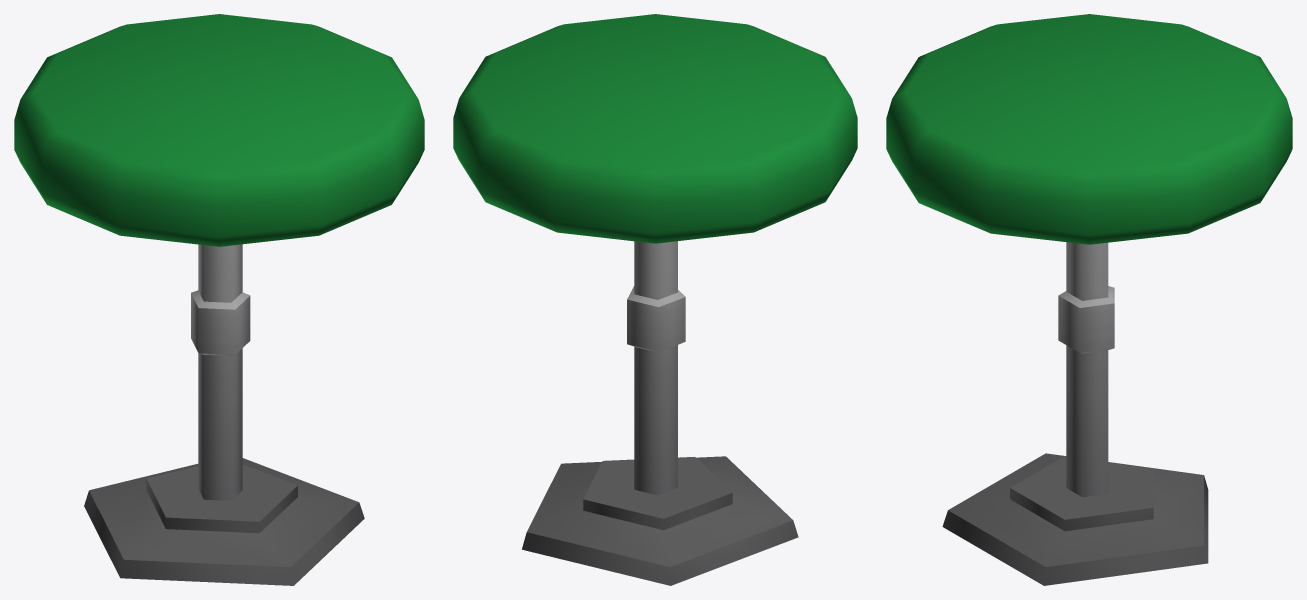
The model's file is Chair_3_C.fbx.
The picture shows the model from 3 angles, left to right: view 1: azimuth 30°, elevation 25°; view 2: azimuth 150°, elevation 25°; view 3: azimuth 270°, elevation 25°; orthographic projection.
Visible parts, largest first — view 1: Chair_3_C; view 2: Chair_3_C; view 3: Chair_3_C.
Boxes of the visible parts, box(x1,y1,x2,y2) form: Chair_3_C: box(14, 14, 424, 585); Chair_3_C: box(453, 14, 857, 585); Chair_3_C: box(886, 14, 1292, 585).
Bounding box in the file's own units: 50.02 × 59.1 × 50.04.
